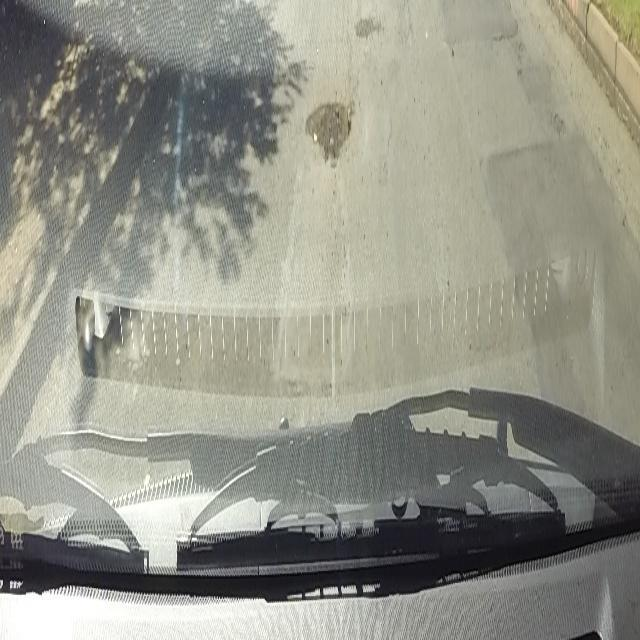pothole: (303, 96, 352, 164), (353, 10, 382, 40)
